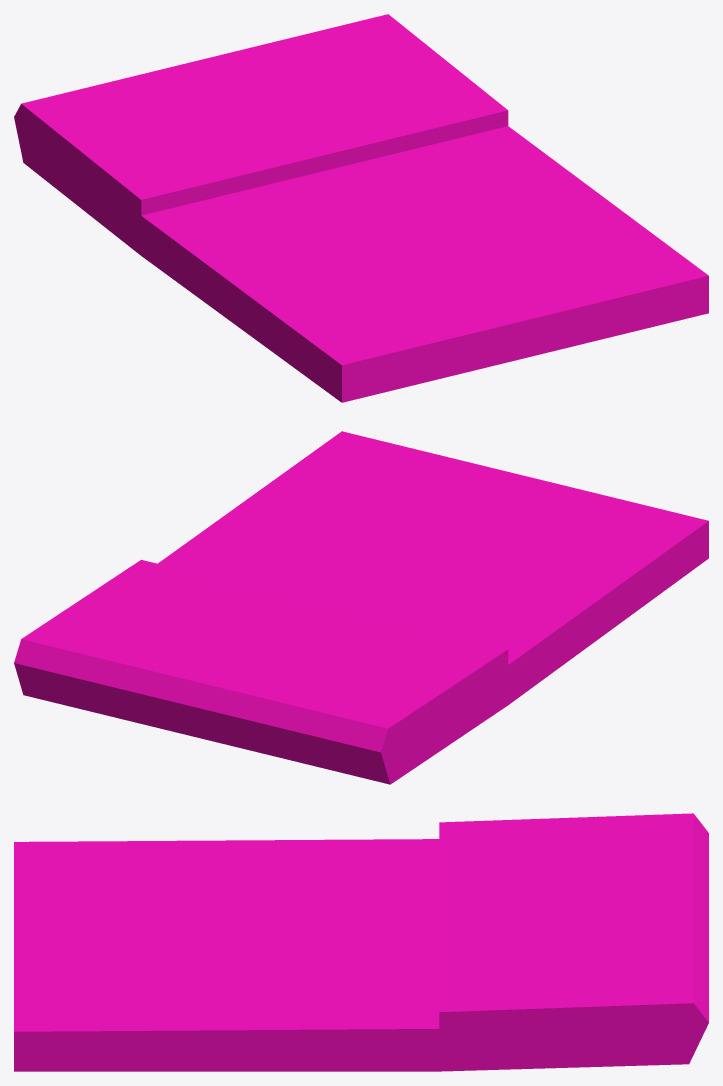
The model's file is study_calculator_2_meshCollider.fbx.
The picture shows the model from 3 angles, top to bottom: view 1: azimuth 30°, elevation 25°; view 2: azimuth 150°, elevation 25°; view 3: azimuth 270°, elevation 25°; orthographic projection. The views are drawn at different scales.
Parts seen in each view (by area): view 1: study_calculator_2_meshCollider; view 2: study_calculator_2_meshCollider; view 3: study_calculator_2_meshCollider.
Part boxes in pixels (box(x1,y1,x2,y2)): study_calculator_2_meshCollider: box(14, 14, 708, 402); study_calculator_2_meshCollider: box(14, 431, 708, 784); study_calculator_2_meshCollider: box(14, 813, 708, 1071).
Size of the model in its own units: 12.39 by 2.08 by 19.18.
